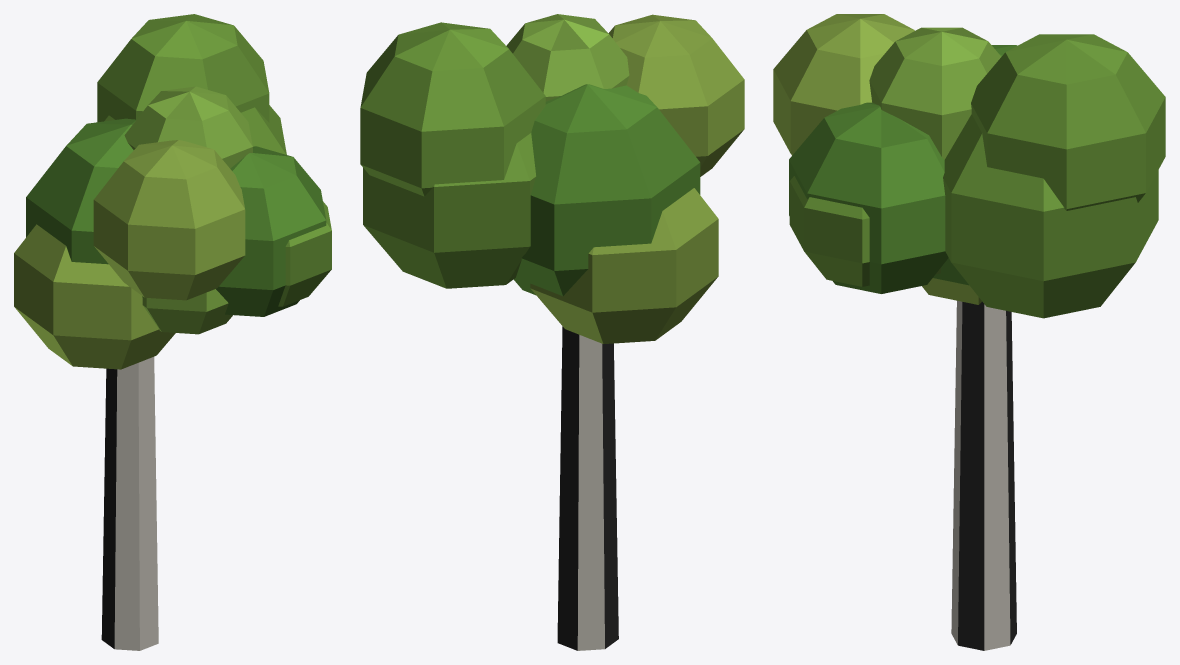
The model's file is tree_2.glb.
3 renders of one model, left to right at view 1: azimuth 30°, elevation 25°; view 2: azimuth 150°, elevation 25°; view 3: azimuth 270°, elevation 25°, orthographic. The views are drawn at different scales.
Visible parts, largest first — view 1: tree_2; view 2: tree_2; view 3: tree_2.
Boxes of the visible parts, x1,y1,x2,y2 form: tree_2: [14, 14, 331, 650]; tree_2: [360, 14, 744, 650]; tree_2: [773, 14, 1165, 650].
Bounding box in the file's own units: 1.07 × 2.12 × 1.17.
